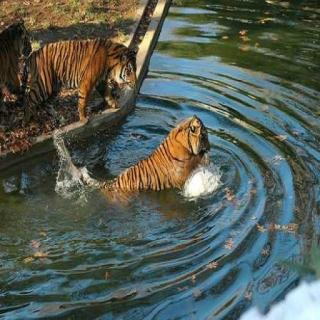Tiger: (90, 104, 218, 214), (17, 38, 139, 129), (0, 12, 34, 106)
